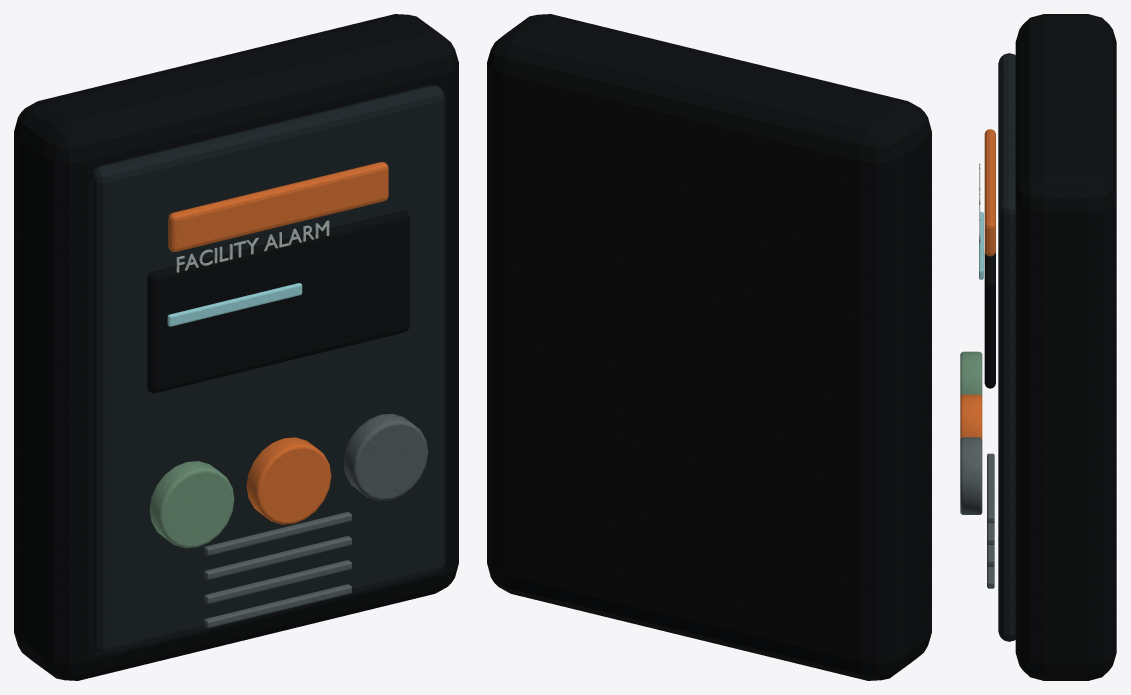
Rendered from SecurityAlarm.glb.
3 views of the same model, side by side, from view 1: azimuth 30°, elevation 25°; view 2: azimuth 150°, elevation 25°; view 3: azimuth 270°, elevation 25° (orthographic). The views are drawn at different scales.
Visible parts, largest first — view 1: SecurityAlarm_Mesh; view 2: SecurityAlarm_Mesh; view 3: SecurityAlarm_Mesh.
Boxes of the visible parts, box(x1,y1,x2,y2) form: SecurityAlarm_Mesh: box(14, 14, 458, 680); SecurityAlarm_Mesh: box(487, 14, 931, 680); SecurityAlarm_Mesh: box(960, 14, 1116, 680).
Size of the model in its own units: 0.68 by 0.88 by 0.2475.
7 materials, 7 textured.
